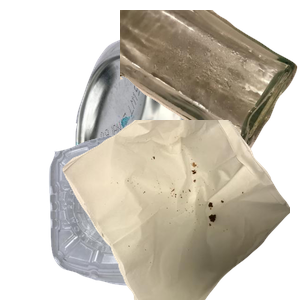glass: (120, 10, 300, 153)
metal: (73, 34, 285, 214)
plastic: (46, 130, 227, 300)
trash: (60, 120, 300, 300)
